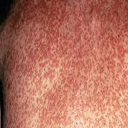Measles: (16, 21, 114, 121)
